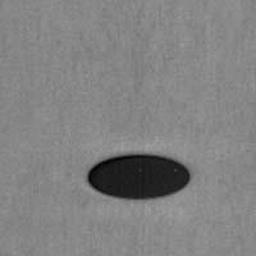Punching: (86, 154, 191, 200)
